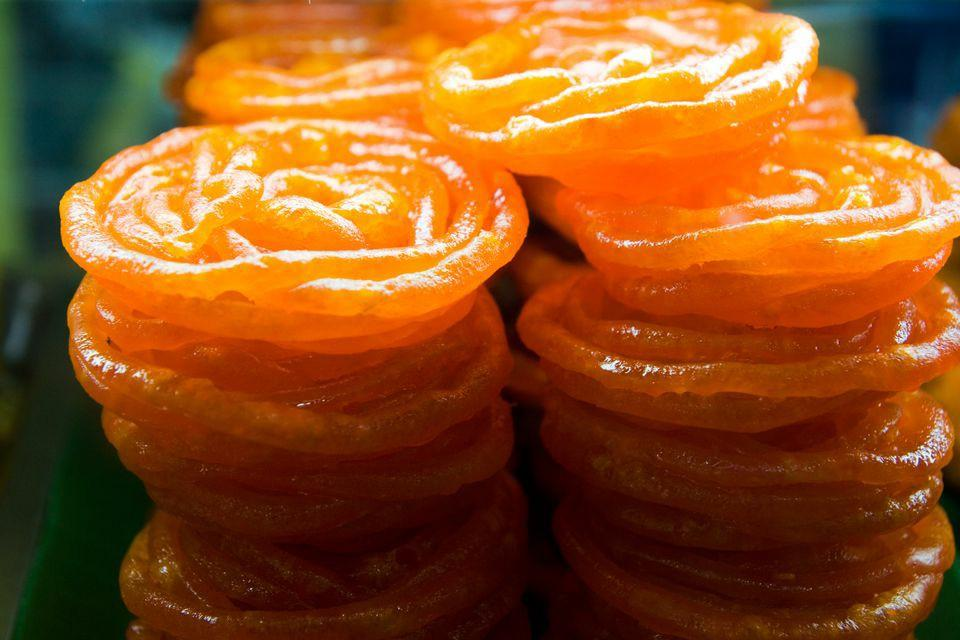Jalebi: (53, 0, 960, 640)
